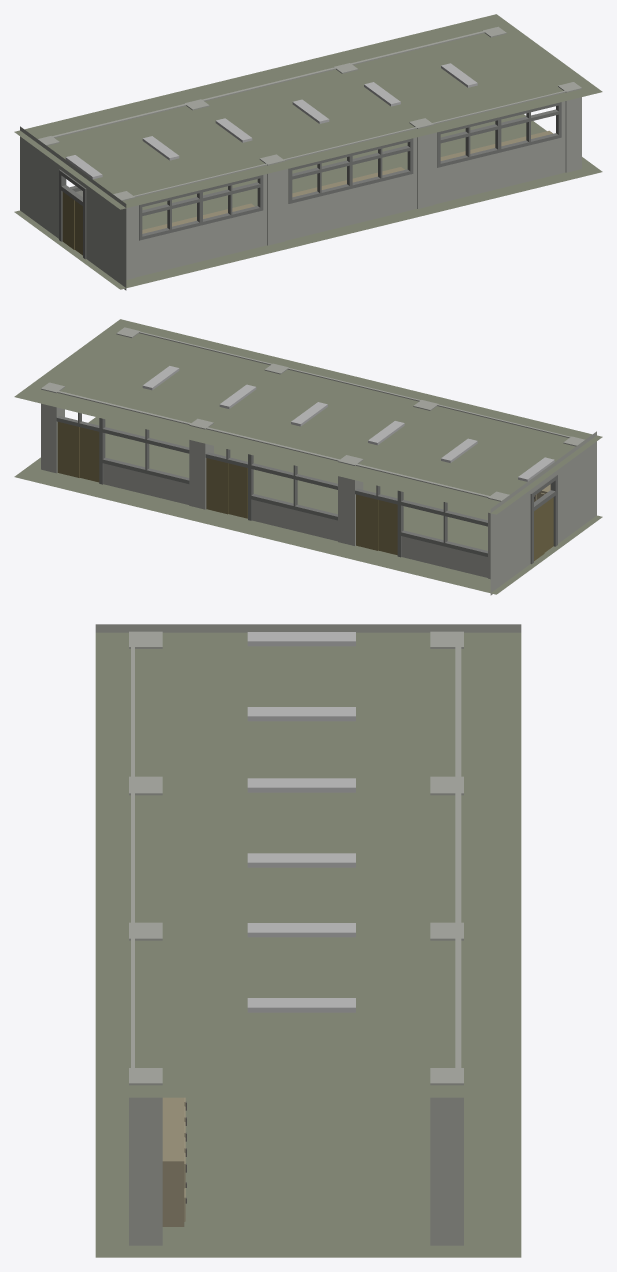
The model's file is 3d_hallway.fbx.
3 views of the same model, one above another, from view 1: azimuth 30°, elevation 25°; view 2: azimuth 150°, elevation 25°; view 3: azimuth 270°, elevation 25° (orthographic). The views are drawn at different scales.
Visible parts, largest first — view 1: pPlane25 (×3), pPlane11 (×3), pPlane24 (×3), pPlane14 (×3), pPlane28, pPlane7 (×3), pPlane12 (×3), pPlane5 (×3), pPlane6 (×2), pPlane29, polySurface50, polySurface49 (+1 smaller); view 2: pPlane25 (×3), pPlane24 (×3), pPlane5 (×3), pPlane28, pPlane10 (×3), polySurface46 (×3), pPlane7 (×3), polySurface45 (×3), pPlane6, pPlane29, polySurface50, polySurface49 (+2 smaller); view 3: pPlane25 (×3), pPlane24 (×2), pPlane7 (×2), pPlane26 (×3), pPlane27 (×3), pPlane28, pPlane12, pPlane5 (×3).
Part boxes in pixels (x1,y1,x2,y2): pPlane25 (×3): [14, 14, 602, 209]; pPlane11 (×3): [133, 90, 566, 277]; pPlane24 (×3): [14, 114, 602, 289]; pPlane14 (×3): [139, 102, 561, 240]; pPlane28: [20, 126, 126, 290]; pPlane7 (×3): [259, 82, 581, 245]; pPlane12 (×3): [142, 130, 552, 233]; pPlane5 (×3): [51, 31, 484, 196]; pPlane6 (×2): [113, 154, 284, 279]; pPlane29: [59, 169, 86, 259]; polySurface50: [62, 192, 74, 249]; polySurface49: [75, 201, 82, 255]; pPlane25 (×3): [14, 319, 602, 514]; pPlane24 (×3): [14, 417, 602, 594]; pPlane5 (×3): [57, 391, 489, 577]; pPlane28: [490, 431, 596, 595]; pPlane10 (×3): [56, 412, 487, 557]; polySurface46 (×3): [57, 422, 378, 550]; pPlane7 (×3): [41, 382, 363, 545]; polySurface45 (×3): [80, 427, 397, 555]; pPlane6: [338, 455, 359, 545]; pPlane29: [530, 474, 557, 564]; polySurface50: [534, 504, 544, 560]; polySurface49: [544, 497, 553, 552]; pPlane25 (×3): [95, 632, 521, 1097]; pPlane24 (×2): [95, 1097, 521, 1257]; pPlane7 (×2): [129, 1068, 463, 1245]; pPlane26 (×3): [247, 707, 355, 1012]; pPlane27 (×3): [247, 632, 355, 937]; pPlane28: [95, 624, 521, 632]; pPlane12: [162, 1097, 185, 1226]; pPlane5 (×3): [455, 646, 461, 1068].
Bounding box in the file's own units: 34.07 × 5.85 × 13.01.
